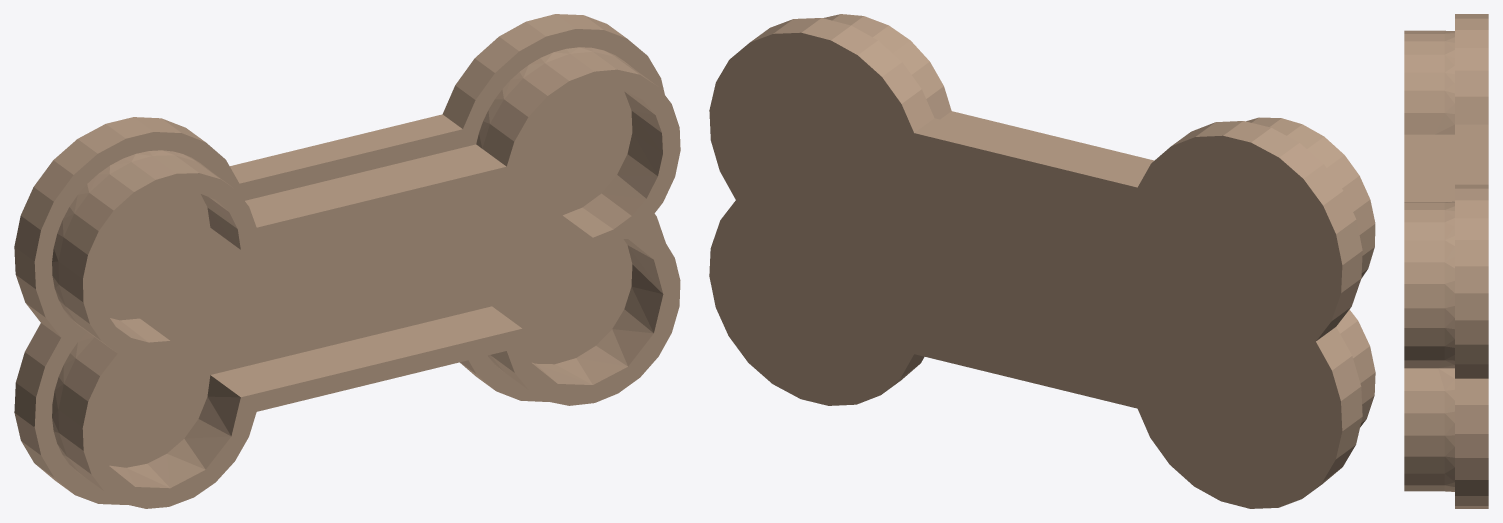
File: BoneNew.fbx
3 renders of one model, left to right at view 1: azimuth 30°, elevation 25°; view 2: azimuth 150°, elevation 25°; view 3: azimuth 270°, elevation 25°, orthographic. The views are drawn at different scales.
Parts seen in each view (by area): view 1: BONE; view 2: BONE; view 3: BONE.
Boxes of the visible parts, left/top/right/bottom form: BONE: left=14, top=14, right=680, bottom=508; BONE: left=709, top=14, right=1375, bottom=508; BONE: left=1404, top=14, right=1488, bottom=508.
Size of the model in its own units: 2.25 by 1.24 by 0.3125.
